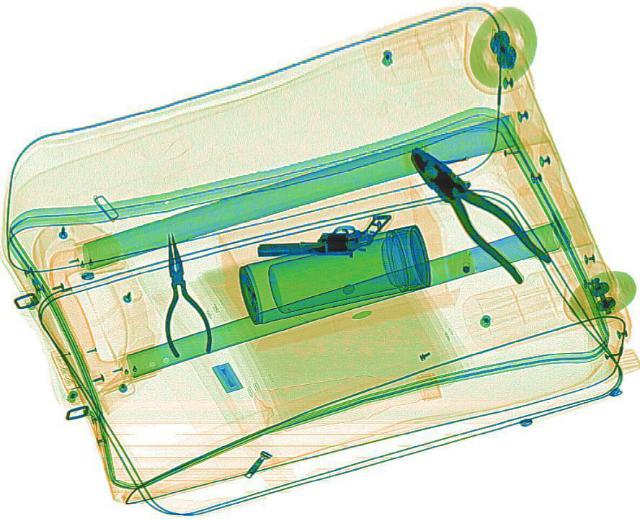Gun: (255, 214, 389, 256)
Pliers: (393, 136, 557, 283), (146, 230, 214, 357)
